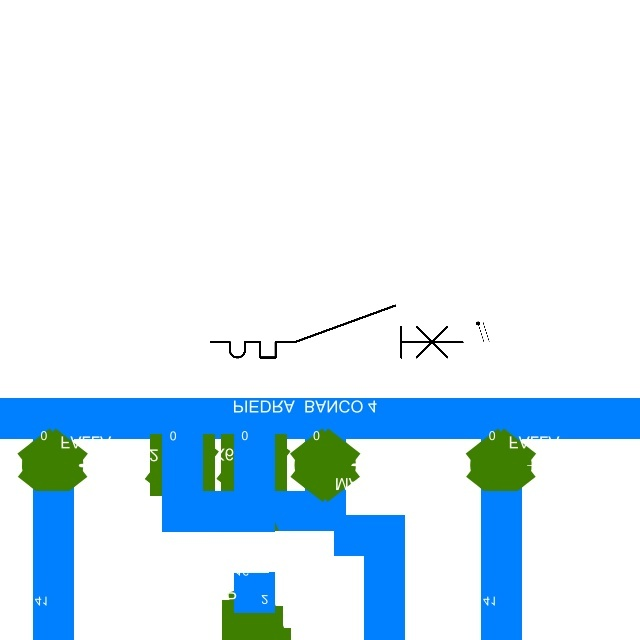interruptor_termomagnetico: (204, 299, 469, 364)
